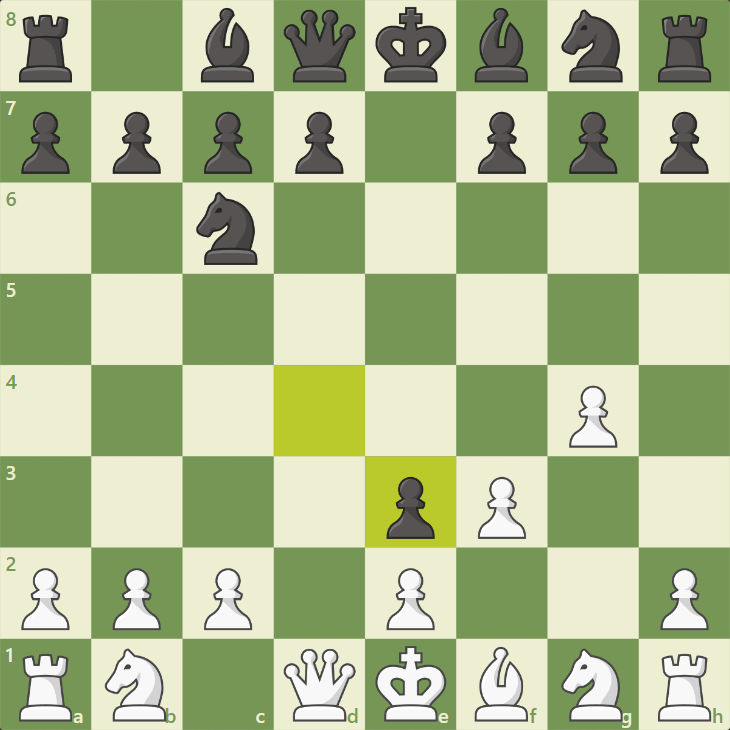B: (471, 643, 530, 725)
K: (372, 643, 448, 723)
N: (102, 643, 170, 724), (560, 647, 624, 725)
P: (17, 565, 73, 634), (108, 564, 164, 633), (200, 564, 256, 633), (380, 564, 436, 633), (474, 473, 530, 542), (656, 565, 712, 634), (564, 384, 620, 453)
Q: (280, 646, 356, 726)
R: (653, 650, 715, 725), (14, 651, 74, 724)
b: (197, 4, 258, 87), (471, 5, 532, 85)
k: (373, 4, 448, 85)
n: (191, 189, 261, 271), (556, 7, 627, 87)
p: (380, 473, 439, 543), (19, 107, 72, 179), (109, 107, 162, 179), (201, 106, 254, 178), (292, 106, 345, 178), (476, 107, 529, 179), (566, 107, 619, 179), (658, 106, 711, 178)
q: (281, 7, 359, 86)
r: (15, 10, 75, 86), (656, 13, 714, 84)
